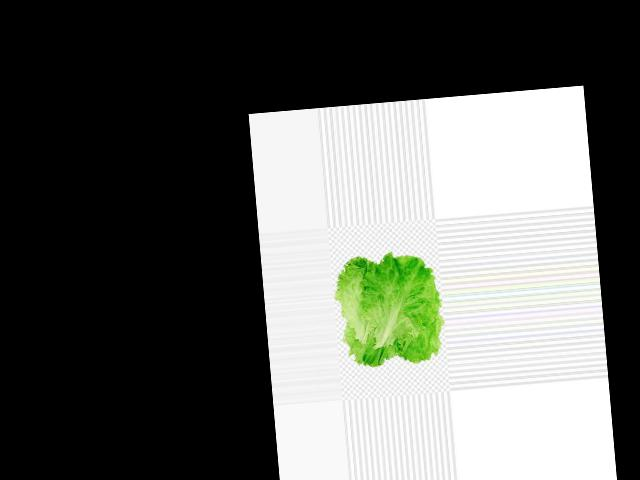lettuce: (345, 246, 441, 364)
